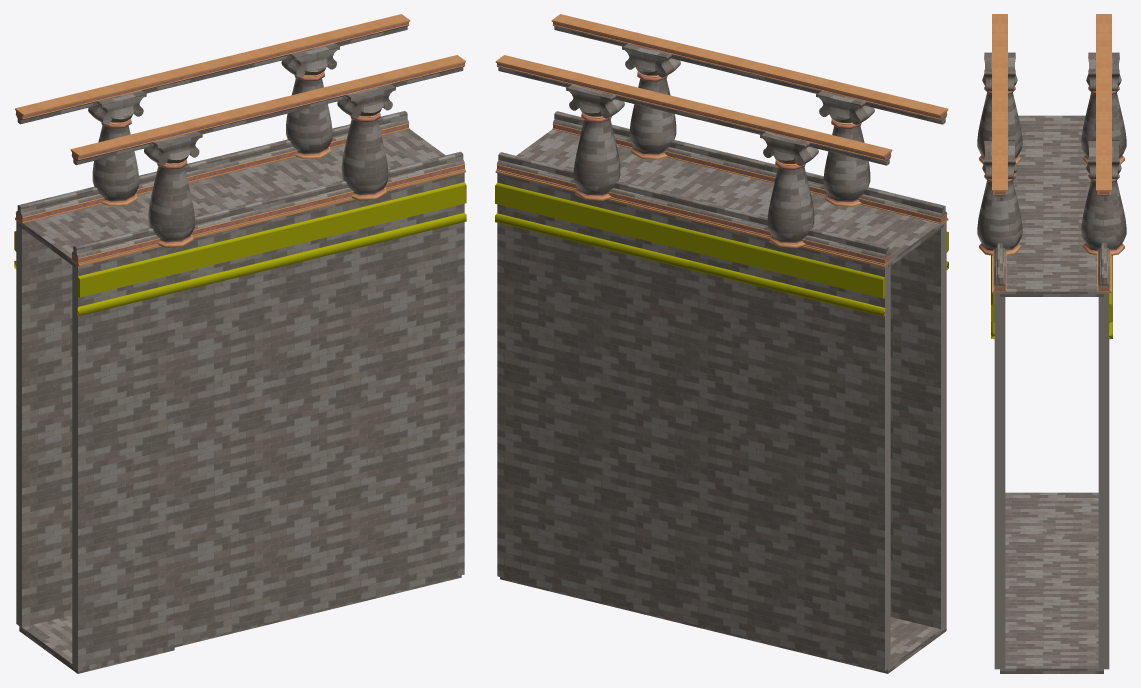
The model's file is wall_outer_palace_v1.fbx.
3 views of the same model, side by side, from view 1: azimuth 30°, elevation 25°; view 2: azimuth 150°, elevation 25°; view 3: azimuth 270°, elevation 25° (orthographic). The views are drawn at different scales.
Visible parts, largest first — view 1: SM_Bld_Castle_Wall_216, SM_Bld_Castle_Wall_214, SM_Bld_Castle_Wall_213, SM_Bld_Castle_Wall_204, SM_Bld_Castle_Wall_201, SM_Bld_Castle_Wall_205, SM_Bld_Castle_Wall_193, SM_Bld_Castle_Wall_211, SM_Bld_Castle_Wall_191, SM_Bld_Castle_Wall_199, SM_Bld_Castle_Wall_212, SM_Bld_Castle_Wall_190 (+35 smaller); view 2: SM_Bld_Castle_Wall_217, SM_Bld_Castle_Wall_194, SM_Bld_Castle_Wall_215, SM_Bld_Castle_Wall_200, SM_Bld_Castle_Wall_198, SM_Bld_Castle_Wall_196, SM_Bld_Castle_Wall_206, SM_Bld_Castle_Wall_210, SM_Bld_Castle_Wall_202, SM_Bld_Castle_Wall_203, SM_Bld_Castle_Wall_189, SM_Bld_Castle_Wall_192 (+36 smaller); view 3: SM_Bld_Castle_Floor_Stone_102, SM_Bld_Castle_Floor_Stone_104, SM_Bld_Castle_Floor_Stone_106, SM_Bld_Castle_Floor_Stone_108, SM_Bld_Castle_Floor_Stone_109, SM_Bld_Castle_Floor_Stone_107, pillar_classic_bottom28, pillar_classic_bottom29, SM_Bld_Castle_Floor_Stone_105, SM_Bld_Castle_Floor_Stone_103, pillar_classic_bottom30, pillar_classic_bottom31 (+21 smaller).
Boxes of the visible parts, <box> form: SM_Bld_Castle_Wall_216: <box>72,342,174,466</box>; SM_Bld_Castle_Wall_214: <box>72,443,174,567</box>; SM_Bld_Castle_Wall_213: <box>72,544,174,667</box>; SM_Bld_Castle_Wall_204: <box>174,419,271,543</box>; SM_Bld_Castle_Wall_201: <box>174,318,271,442</box>; SM_Bld_Castle_Wall_205: <box>174,520,271,644</box>; SM_Bld_Castle_Wall_193: <box>368,271,464,395</box>; SM_Bld_Castle_Wall_211: <box>271,497,367,621</box>; SM_Bld_Castle_Wall_191: <box>368,372,464,496</box>; SM_Bld_Castle_Wall_199: <box>271,294,367,419</box>; SM_Bld_Castle_Wall_212: <box>271,396,367,520</box>; SM_Bld_Castle_Wall_190: <box>368,473,464,597</box>; SM_Bld_Castle_Wall_217: <box>788,444,890,569</box>; SM_Bld_Castle_Wall_194: <box>788,546,890,670</box>; SM_Bld_Castle_Wall_215: <box>788,343,890,467</box>; SM_Bld_Castle_Wall_200: <box>594,295,691,420</box>; SM_Bld_Castle_Wall_198: <box>594,498,691,623</box>; SM_Bld_Castle_Wall_196: <box>497,475,594,599</box>; SM_Bld_Castle_Wall_206: <box>691,420,788,545</box>; SM_Bld_Castle_Wall_210: <box>594,397,691,521</box>; SM_Bld_Castle_Wall_202: <box>691,522,788,646</box>; SM_Bld_Castle_Wall_203: <box>691,319,788,443</box>; SM_Bld_Castle_Wall_189: <box>497,373,594,498</box>; SM_Bld_Castle_Wall_192: <box>497,272,594,396</box>; SM_Bld_Castle_Floor_Stone_102: <box>1000,624,1103,673</box>; SM_Bld_Castle_Floor_Stone_104: <box>1000,247,1103,296</box>; SM_Bld_Castle_Floor_Stone_106: <box>1005,580,1098,624</box>; SM_Bld_Castle_Floor_Stone_108: <box>1005,536,1098,580</box>; SM_Bld_Castle_Floor_Stone_109: <box>1005,492,1098,536</box>; SM_Bld_Castle_Floor_Stone_107: <box>1013,159,1090,203</box>; pillar_classic_bottom28: <box>1081,140,1126,255</box>; pillar_classic_bottom29: <box>977,140,1022,255</box>; SM_Bld_Castle_Floor_Stone_105: <box>1018,203,1085,247</box>; SM_Bld_Castle_Floor_Stone_103: <box>1018,115,1085,159</box>; pillar_classic_bottom30: <box>977,52,1022,163</box>; pillar_classic_bottom31: <box>1081,52,1126,163</box>.
Size of the model in its own units: 20 by 25.68 by 7.17.
